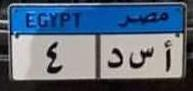4: (42, 40, 65, 76)
alif: (161, 37, 175, 74)
daal: (106, 46, 124, 72)
seen: (128, 45, 156, 74)
